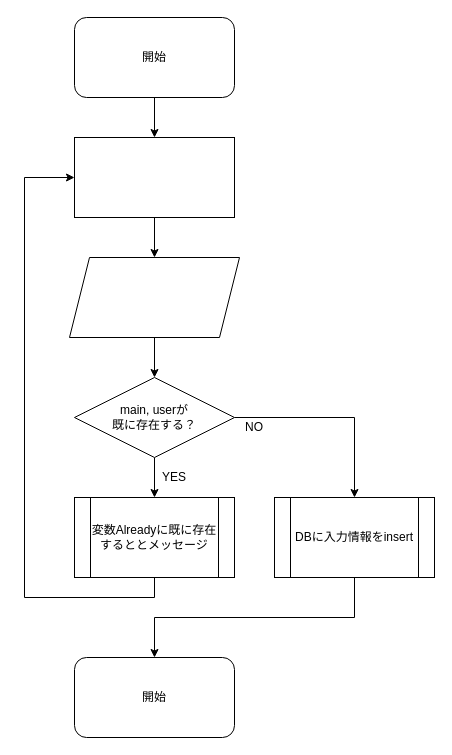
Image size: 452x755. Some labels were removed from this diagram. The shapes that lost their labels are listed below. From the top down, each one's centre as x and y in pixels, then its label:
(154,177): mail, userを送信
(154,297): mail, userをDBで調べる
